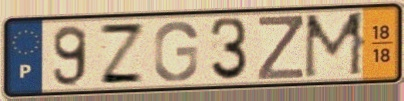3: (207, 16, 250, 83)
9: (50, 23, 89, 87)
G: (151, 19, 200, 83)
M: (301, 10, 369, 82)
Z: (255, 14, 306, 82), (97, 22, 148, 86)
